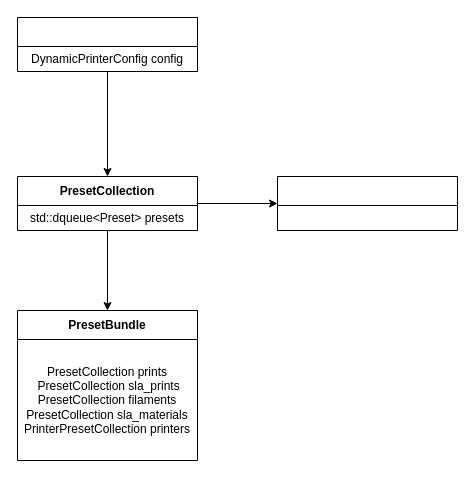
Some shapes in this 475 by 478 pixel diagram are drawn without their labels. The box of each missing label's shape, as (x1, y1, x2, y2) in pixels:
Preset: (16, 16, 198, 72)
PrinterPresetCollection: (276, 176, 458, 230)
